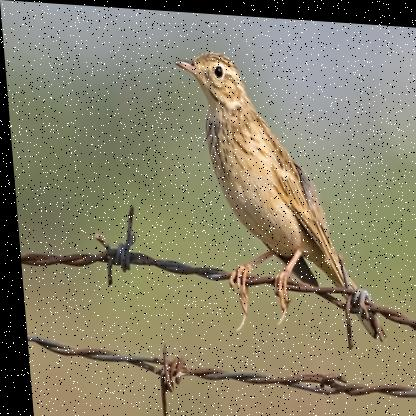Burung: (171, 43, 375, 335)
